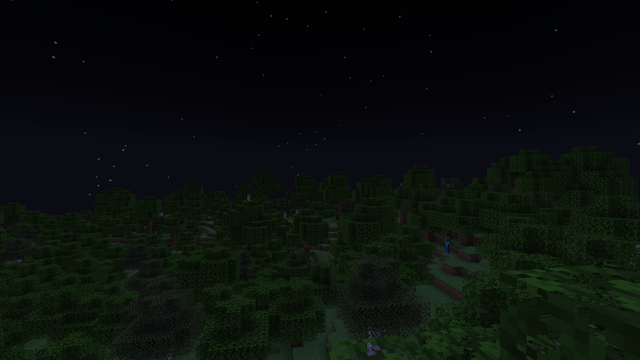zombies: (444, 237, 451, 253)
